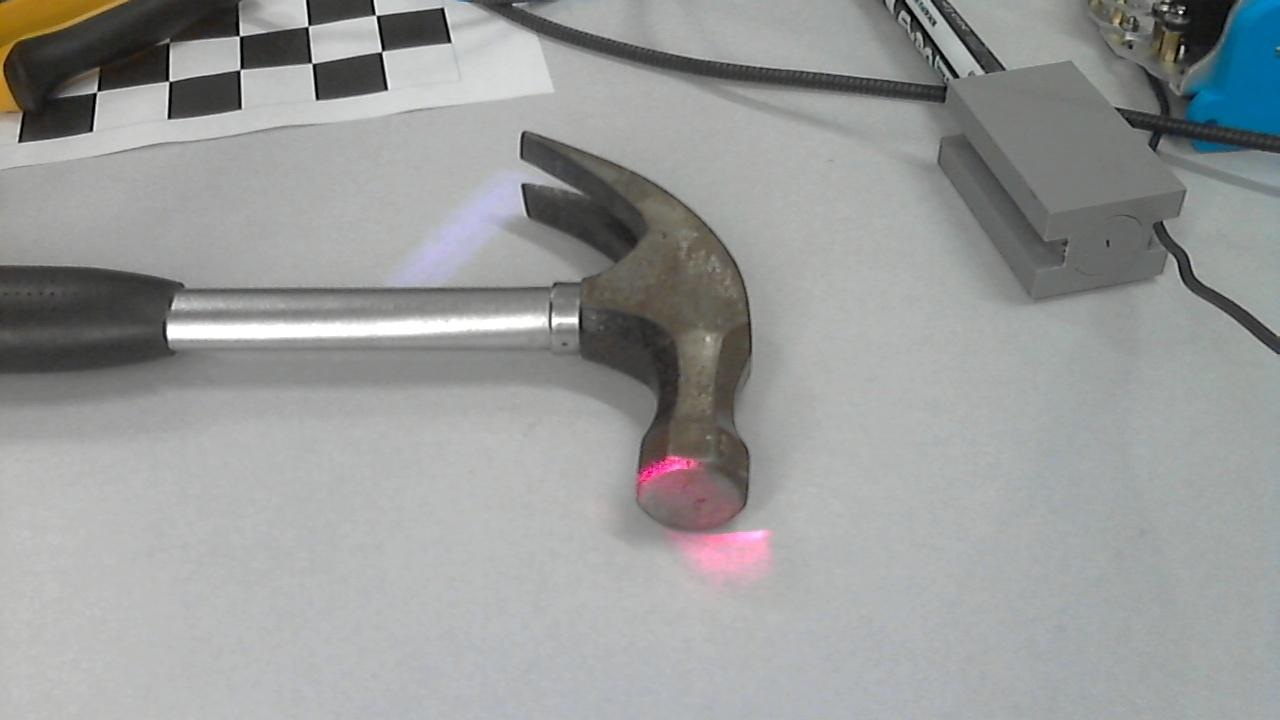Object claw hammer -Material metal - Pdfname 2LKzx9zgCNVB: (622, 429, 747, 531)
